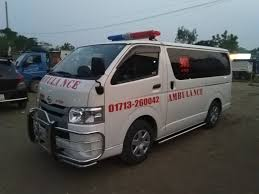Ambulance: (25, 27, 237, 167)
